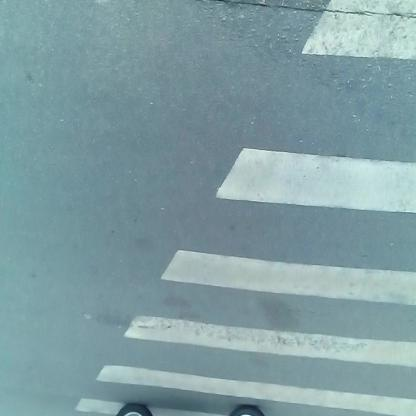crosswalk: (92, 2, 416, 391)
